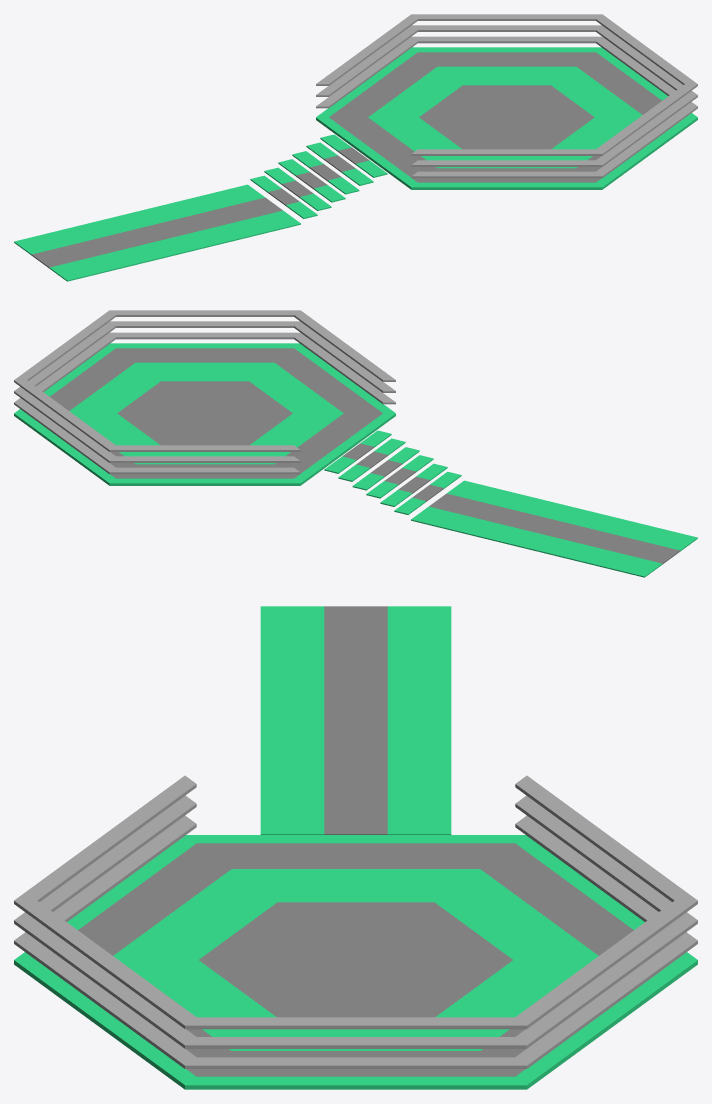
Rendered from balkon.fbx.
3 views of the same model, one above another, from view 1: azimuth 30°, elevation 25°; view 2: azimuth 150°, elevation 25°; view 3: azimuth 270°, elevation 25° (orthographic). The views are drawn at different scales.
Visible parts, largest first — view 1: Cylinder, Cube, Cylinder.001, Cylinder.003, Cylinder.002, Cube.002, Cube.001, Cube.003, Cube.006, Cube.005, Cube.004; view 2: Cylinder, Cube, Cylinder.001, Cylinder.003, Cylinder.002, Cube.002, Cube.001, Cube.003, Cube.006, Cube.005, Cube.004; view 3: Cylinder, Cube, Cylinder.003, Cylinder.002, Cylinder.001, Cube.006, Cube.001, Cube.003, Cube.005, Cube.004.
Part boxes in pixels (<box>): Cylinder: <box>316,47,697,189</box>; Cube: <box>14,184,300,281</box>; Cylinder.001: <box>316,36,697,178</box>; Cylinder.003: <box>316,14,697,155</box>; Cylinder.002: <box>316,25,697,166</box>; Cube.002: <box>264,167,331,210</box>; Cube.001: <box>250,175,317,218</box>; Cube.003: <box>278,159,345,202</box>; Cube.006: <box>320,134,387,177</box>; Cube.005: <box>306,142,373,185</box>; Cube.004: <box>292,151,359,194</box>; Cylinder: <box>14,343,395,485</box>; Cube: <box>411,480,697,577</box>; Cylinder.001: <box>14,332,395,474</box>; Cylinder.003: <box>14,310,395,451</box>; Cylinder.002: <box>14,321,395,462</box>; Cube.002: <box>380,463,447,506</box>; Cube.001: <box>394,471,461,514</box>; Cube.003: <box>366,455,433,498</box>; Cube.006: <box>324,430,391,473</box>; Cube.005: <box>338,438,405,481</box>; Cube.004: <box>352,447,419,490</box>; Cylinder: <box>14,835,697,1089</box>; Cube: <box>260,606,451,803</box>; Cylinder.003: <box>14,775,697,1029</box>; Cylinder.002: <box>14,795,697,1048</box>; Cylinder.001: <box>14,815,697,1068</box>; Cube.006: <box>260,822,451,834</box>; Cube.001: <box>260,804,451,807</box>; Cube.003: <box>260,811,451,814</box>; Cube.005: <box>260,818,451,821</box>; Cube.004: <box>260,814,451,817</box>.
Size of the model in its own units: 2606 by 262 by 1415.
